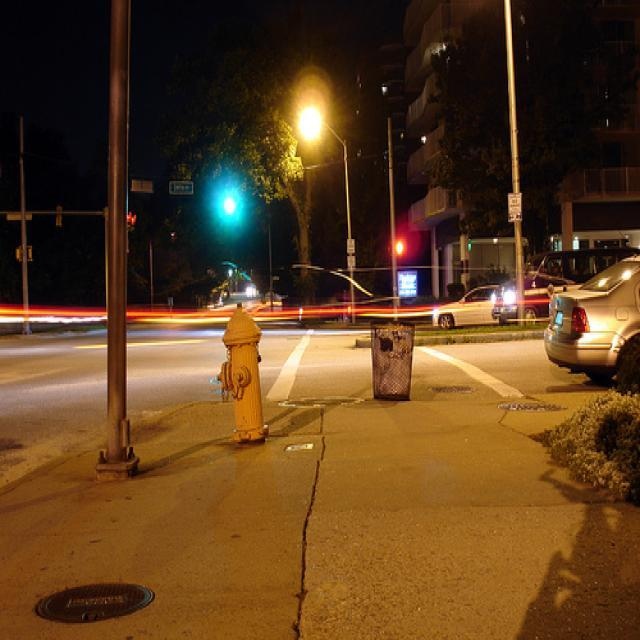fire_hydrant: (216, 298, 268, 442)
